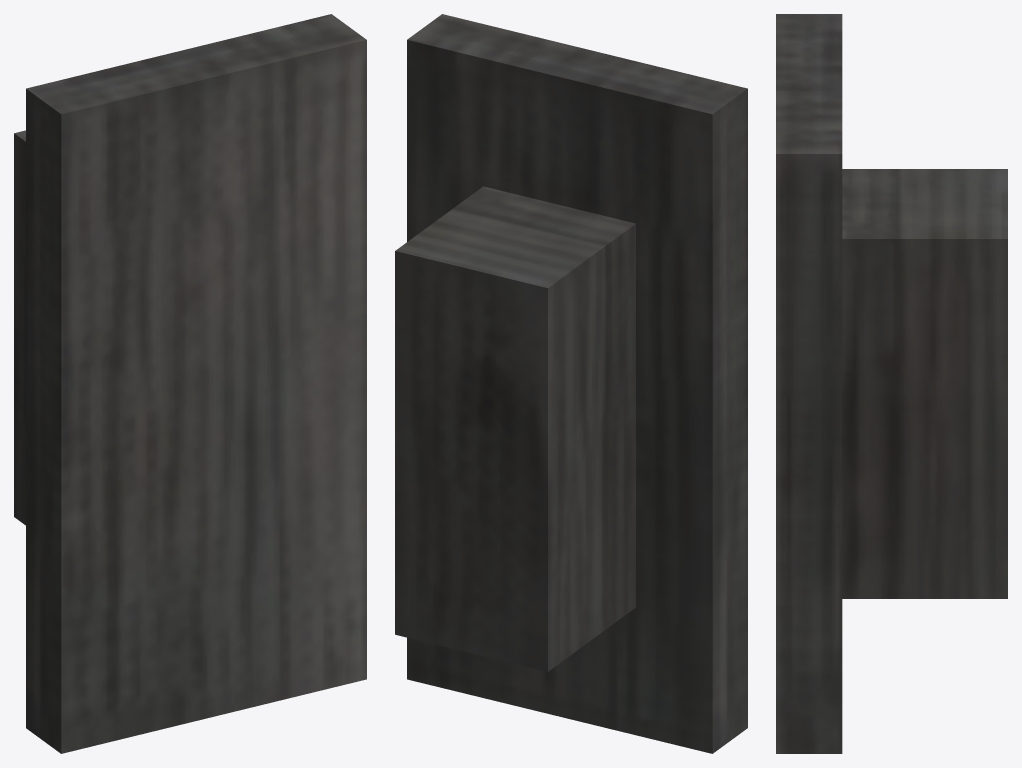
The model's file is release_button__release_button_cap.glb.
3 views of the same model, side by side, from view 1: azimuth 30°, elevation 25°; view 2: azimuth 150°, elevation 25°; view 3: azimuth 270°, elevation 25° (orthographic). The views are drawn at different scales.
Parts seen in each view (by area): view 1: geometry_0; view 2: geometry_0; view 3: geometry_0.
Boxes of the visible parts, x1,y1,x2,y2 form: geometry_0: [14, 14, 366, 753]; geometry_0: [395, 14, 747, 753]; geometry_0: [776, 14, 1007, 753].
Bounding box in the file's own units: 0.02 × 0.04 × 0.014.
1 material, 1 textured.
